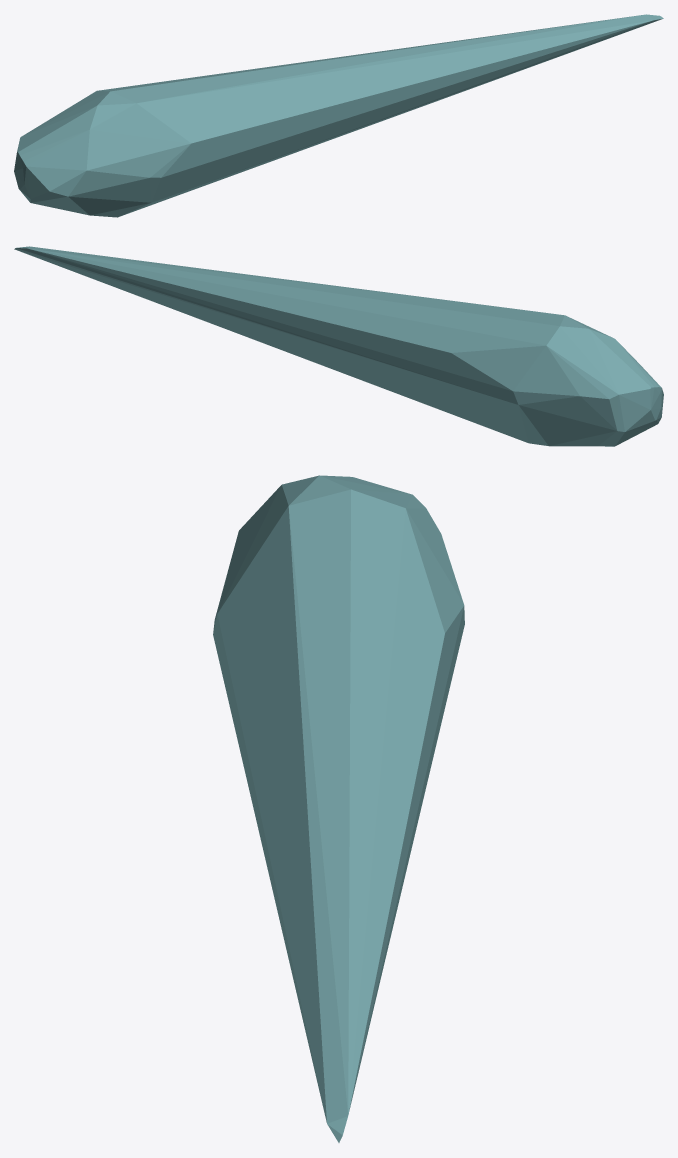
File: handTool_screwdriver_phillips_ph2_a01.glb
The picture shows the model from 3 angles, top to bottom: view 1: azimuth 30°, elevation 25°; view 2: azimuth 150°, elevation 25°; view 3: azimuth 270°, elevation 25°; orthographic projection. The views are drawn at different scales.
Parts seen in each view (by area): view 1: geometry_0; view 2: geometry_0; view 3: geometry_0.
Part boxes in pixels (left/top/right/bottom): geometry_0: left=14, top=14, right=663, bottom=217; geometry_0: left=14, top=246, right=663, bottom=446; geometry_0: left=213, top=475, right=464, bottom=1142.
Bounding box in the file's own units: 0.48 × 0.0828 × 0.0815.
